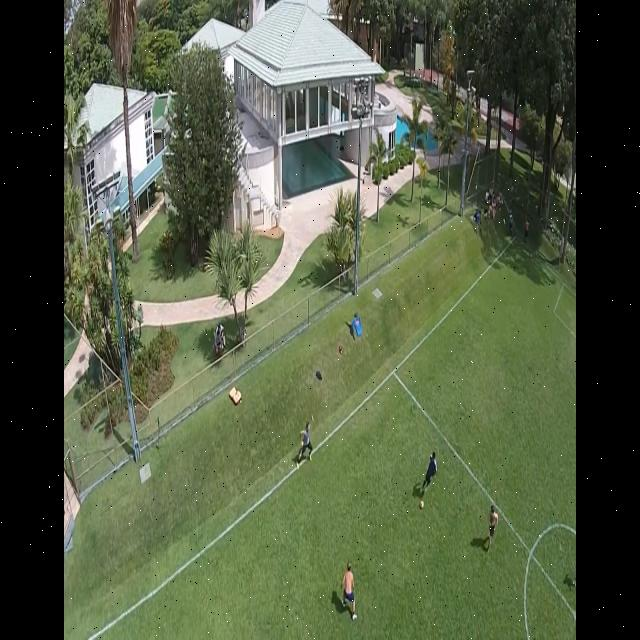humans: (337, 550, 357, 626), (294, 408, 317, 474), (418, 442, 438, 511), (483, 499, 499, 555)
